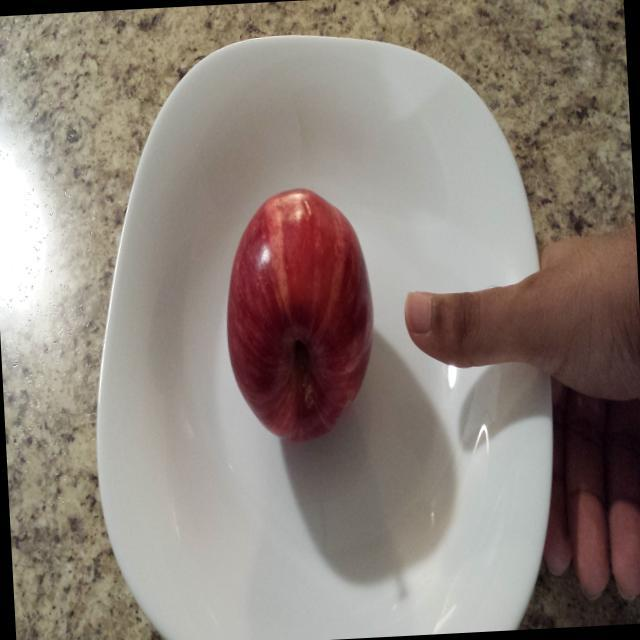Apple: (217, 182, 383, 454)
Finger: (401, 274, 508, 376)
